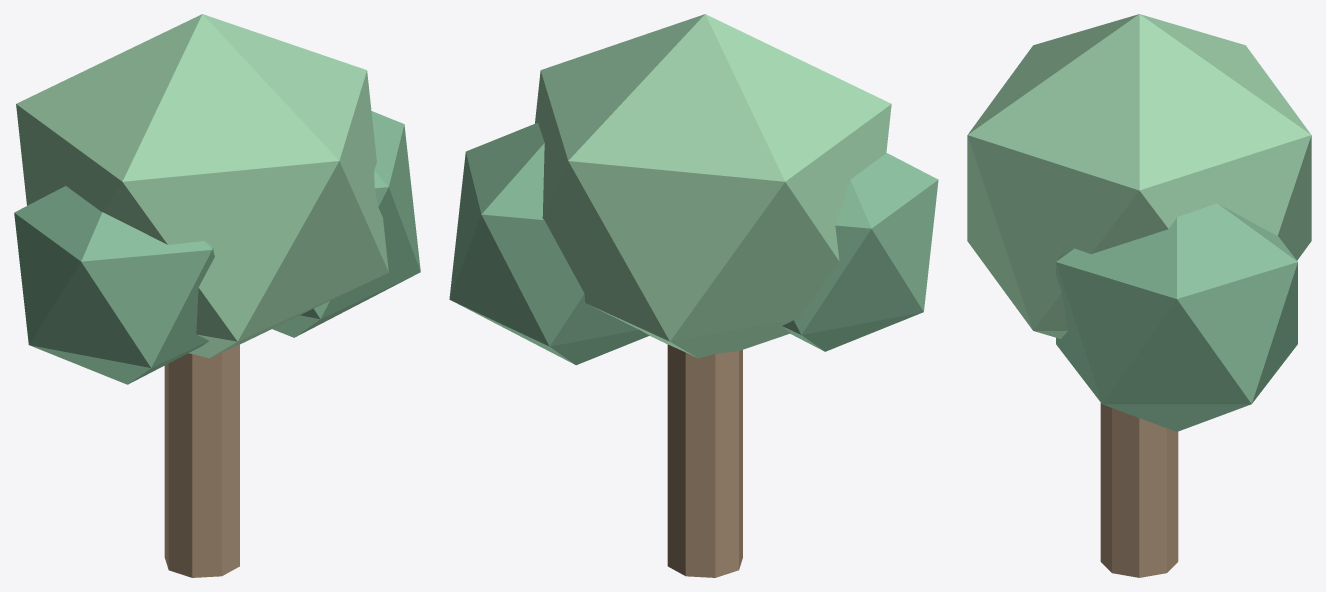
The model's file is tree_round.glb.
3 renders of one model, left to right at view 1: azimuth 30°, elevation 25°; view 2: azimuth 150°, elevation 25°; view 3: azimuth 270°, elevation 25°, orthographic.
Parts seen in each view (by area): view 1: tree_round; view 2: tree_round; view 3: tree_round.
Boxes of the visible parts, x1=… form: tree_round: x1=14, y1=14, x2=420, y2=577; tree_round: x1=449, y1=14, x2=938, y2=577; tree_round: x1=967, y1=14, x2=1311, y2=577.
Bounding box in the file's own units: 3.21 × 4.03 × 2.3.
